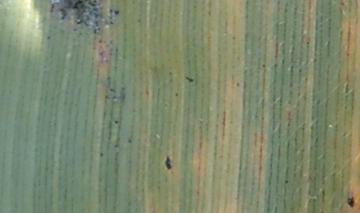tarspot: (57, 6, 68, 23), (345, 194, 357, 209), (163, 155, 173, 172), (73, 11, 84, 25), (182, 74, 195, 84), (72, 1, 83, 11), (85, 1, 99, 7), (112, 8, 120, 17), (107, 87, 117, 94), (112, 118, 120, 126), (98, 150, 105, 159), (282, 177, 289, 185), (234, 79, 241, 87), (260, 61, 267, 69), (45, 34, 52, 42), (126, 137, 133, 144), (173, 91, 181, 97), (304, 39, 310, 46), (344, 51, 350, 57), (108, 19, 114, 25), (108, 6, 112, 13)
